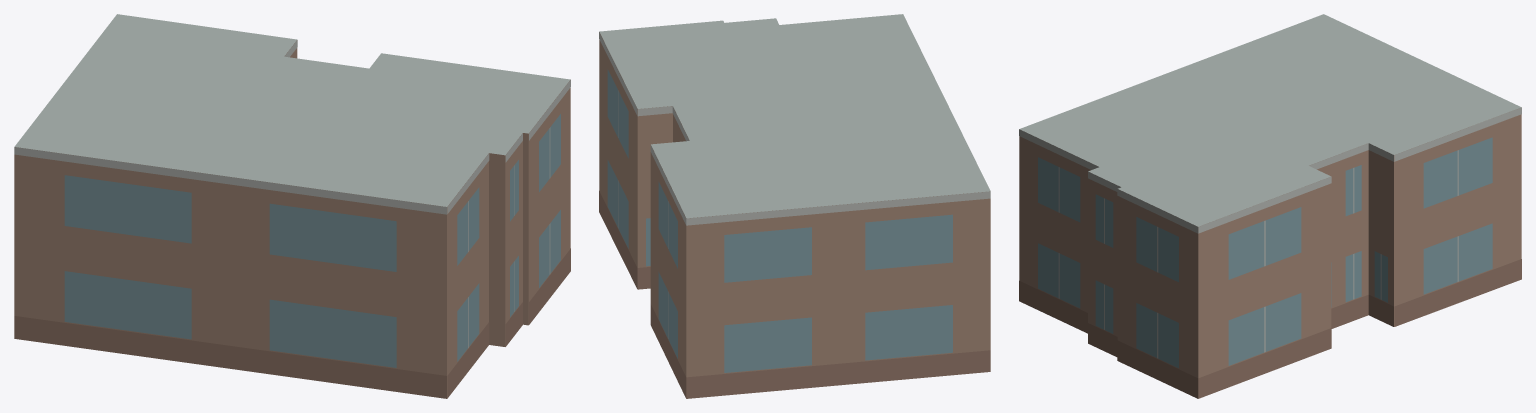
The model's file is survey-upis-32945270.glb.
3 renders of one model, left to right at view 1: azimuth 30°, elevation 25°; view 2: azimuth 150°, elevation 25°; view 3: azimuth 270°, elevation 25°, orthographic. The views are drawn at different scales.
Parts seen in each view (by area): view 1: survey-upis-32945270.tmp; view 2: survey-upis-32945270.tmp; view 3: survey-upis-32945270.tmp.
Boxes of the visible parts, x1=… form: survey-upis-32945270.tmp: x1=14, y1=14, x2=570, y2=398; survey-upis-32945270.tmp: x1=599, y1=14, x2=990, y2=398; survey-upis-32945270.tmp: x1=1019, y1=14, x2=1521, y2=398.
Size of the model in its own units: 16.19 by 6.1 by 16.16.
